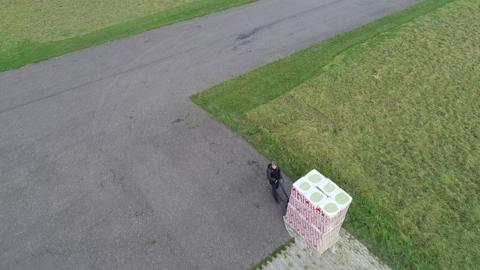RockwoolPallet: (285, 168, 354, 254)
